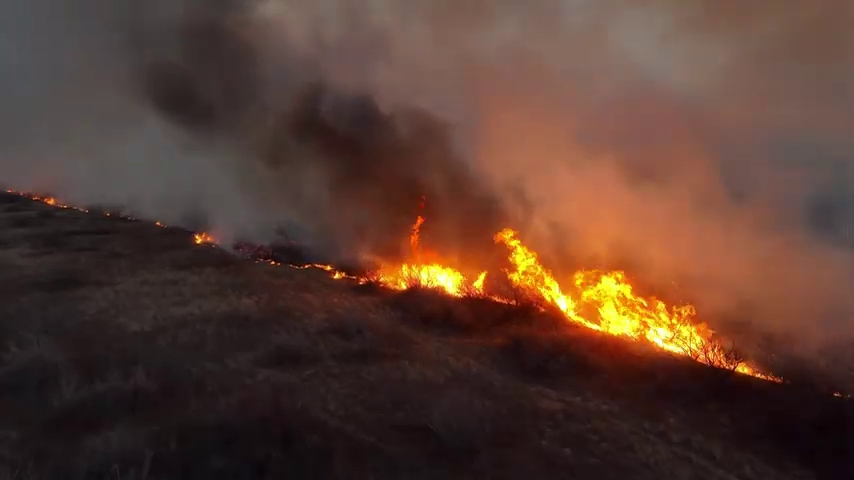forest_fire: (493, 227, 781, 381), (288, 215, 510, 302), (7, 189, 87, 210), (241, 246, 281, 264), (194, 231, 218, 243), (156, 222, 163, 225)
